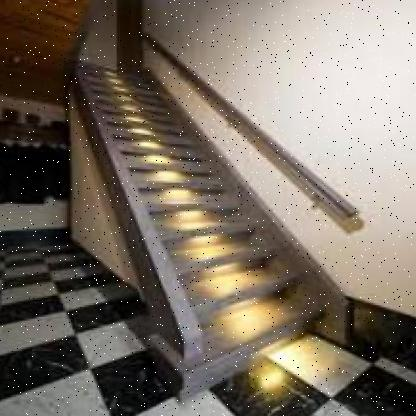stair_up: (146, 202, 323, 362)
